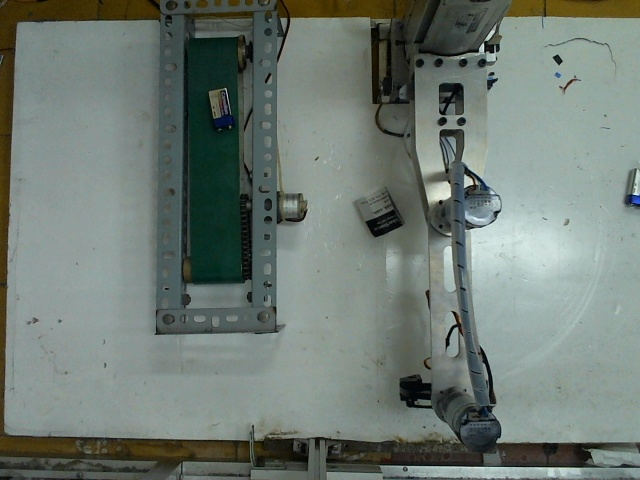battery: (202, 81, 238, 131)
